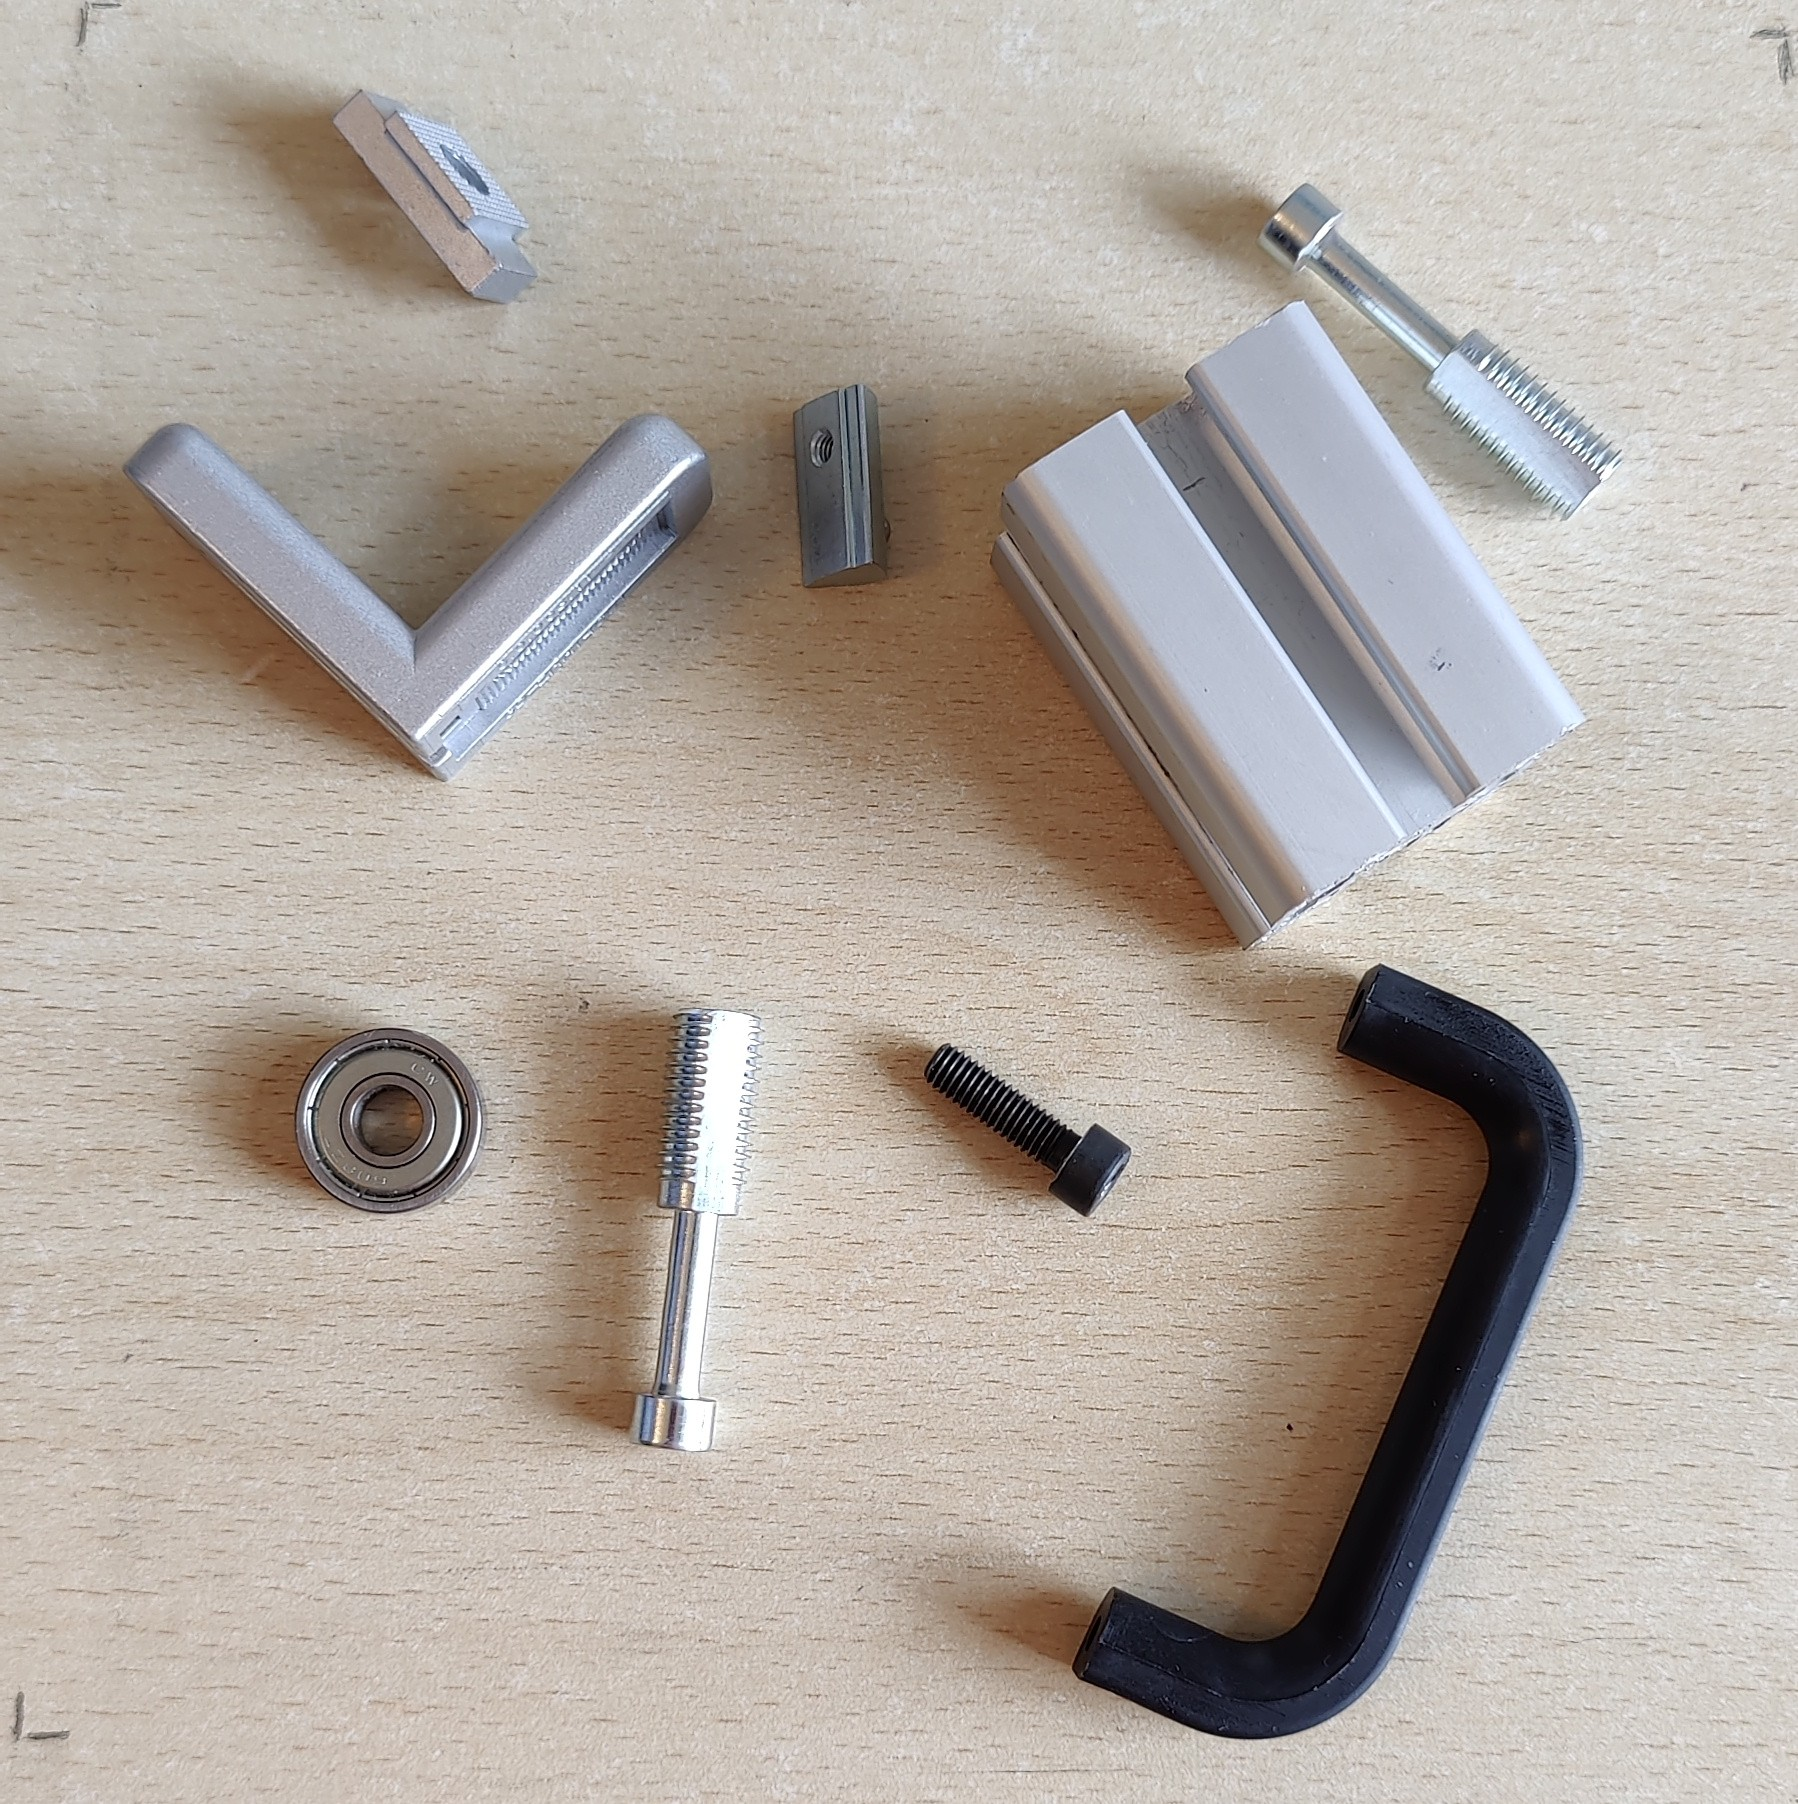Aluminium Extension: (986, 296, 1592, 955)
Ball Bearing: (291, 1027, 487, 1215)
Multiwinkel: (119, 407, 715, 785)
Pull Handle: (1070, 966, 1586, 1741)
Shoulder Socket Head Cap Screw: (1255, 178, 1625, 527), (626, 1006, 766, 1457)
Socket Head Cap Screw: (920, 1042, 1133, 1221)
T Nut Square: (328, 84, 543, 308)
T Spring Nut: (789, 377, 892, 593)
